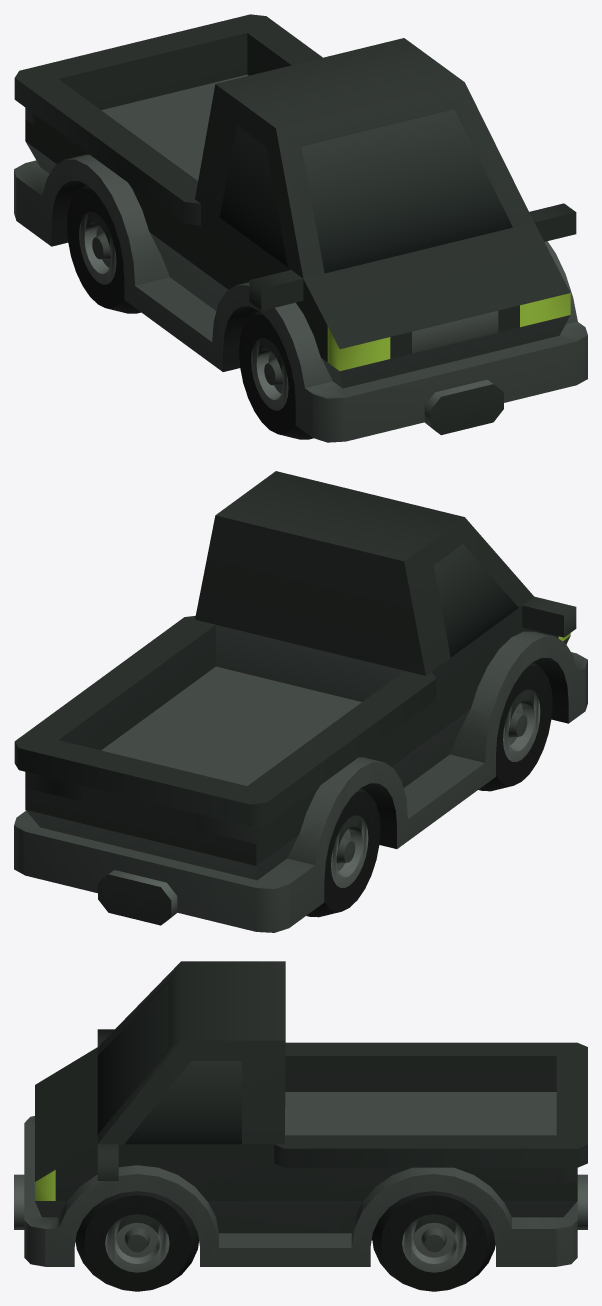
The model's file is truck-flat.glb.
3 views of the same model, one above another, from view 1: azimuth 30°, elevation 25°; view 2: azimuth 150°, elevation 25°; view 3: azimuth 270°, elevation 25° (orthographic). The views are drawn at different scales.
Parts seen in each view (by area): view 1: body, wheel-back-right, wheel-front-right; view 2: body, wheel-front-right, wheel-back-right; view 3: body, wheel-front-left, wheel-back-left.
Part boxes in pixels (x1=…): body: x1=14, y1=14, x2=587, y2=442; wheel-back-right: x1=67, y1=184, x2=140, y2=313; wheel-front-right: x1=239, y1=310, x2=313, y2=439; body: x1=14, y1=471, x2=587, y2=932; wheel-front-right: x1=478, y1=662, x2=552, y2=791; wheel-back-right: x1=306, y1=787, x2=380, y2=917; body: x1=14, y1=961, x2=587, y2=1266; wheel-front-left: x1=75, y1=1191, x2=198, y2=1291; wheel-back-left: x1=372, y1=1191, x2=495, y2=1291.
Bounding box in the file's own units: 1.5 × 1.3 × 2.75.
